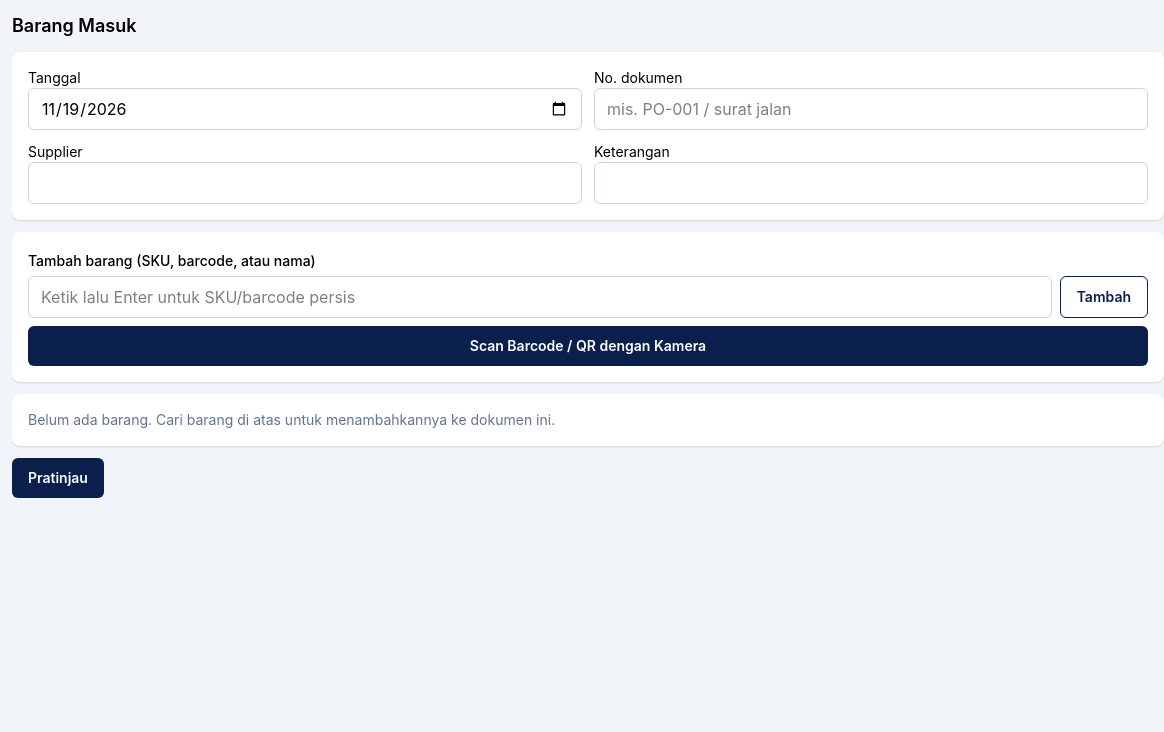
Scenario: Barang Masuk: alur online › SKU yang sama tidak ditambahkan dua kali
Type "air" into the field labelled "Tambah barang (SKU, barcode, atau nama)". click: (540, 297)
box: [28,276,1052,318]
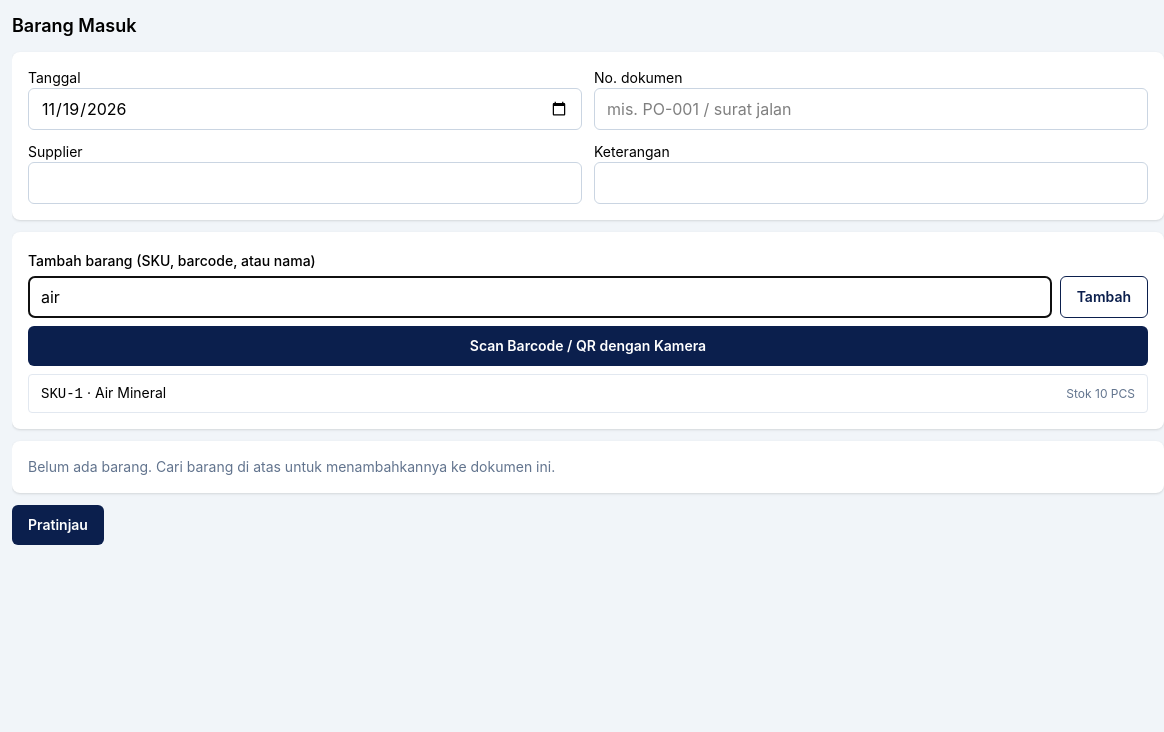
Click the button "SKU-1 · Air Mineral Stok 10 PCS". click: (62, 394)
box: [29,375,1147,412]
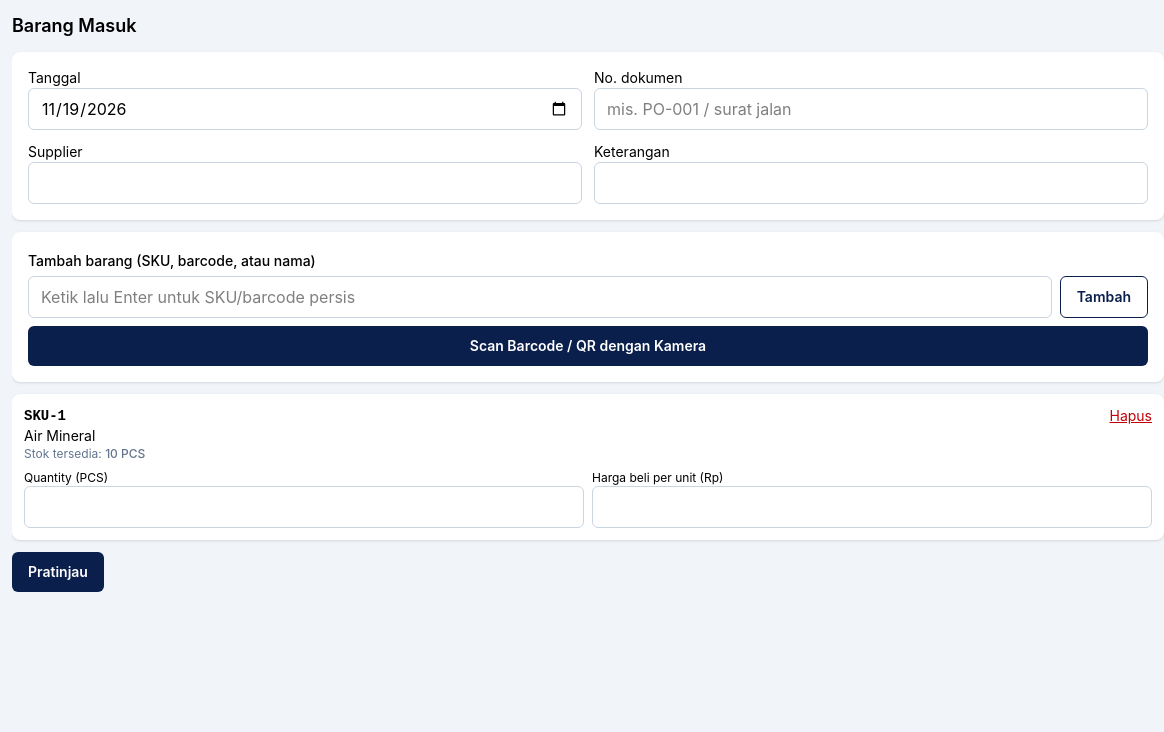
Type "air" into the field labelled "Tambah barang (SKU, barcode, atau nama)". click: (540, 297)
box: [28,276,1052,318]
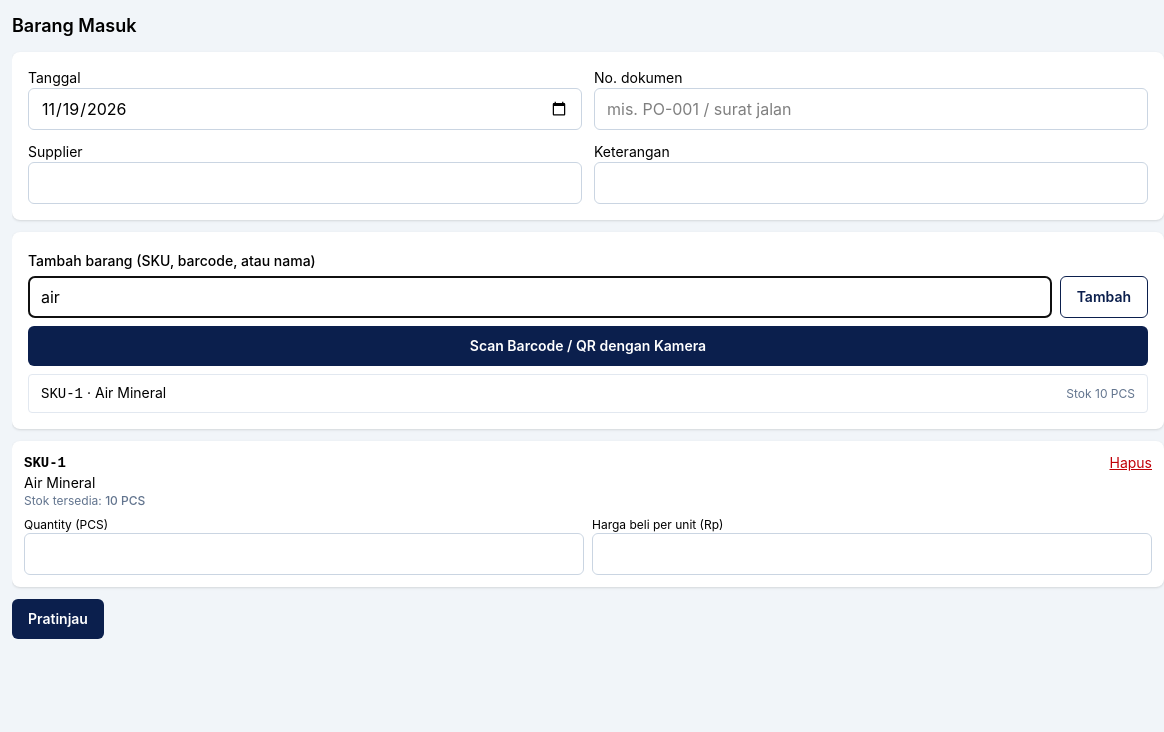
Click the button "SKU-1 · Air Mineral Stok 10 PCS". click: (62, 394)
box: [29,375,1147,412]
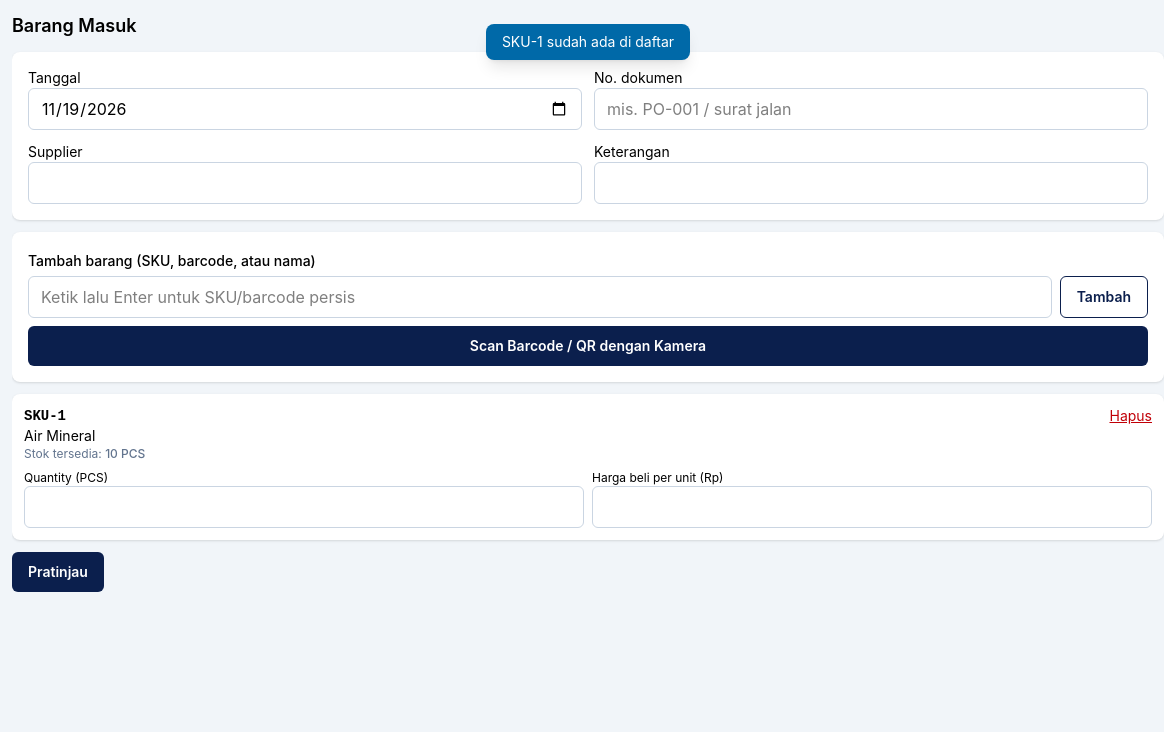
Now the number of fields labelled "Quantity (PCS)" is 1, box [24,486,584,528]
Now the text "SKU-1 sudah ada di daftar" is shown, box [486,24,690,60]
